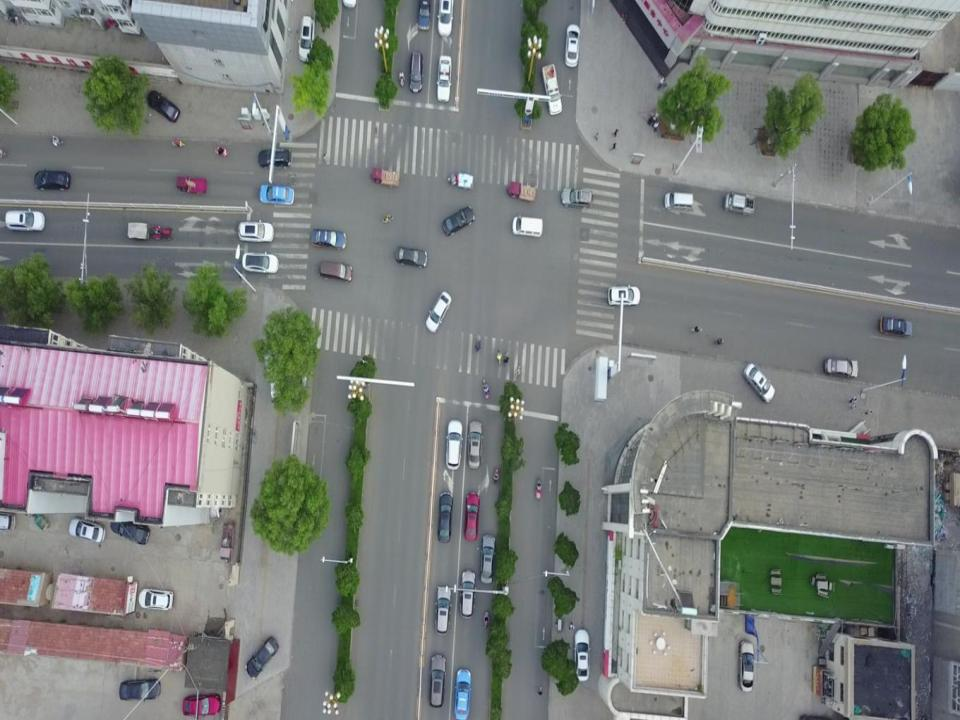car: (246, 636, 278, 680), (109, 513, 150, 546), (743, 362, 775, 402), (425, 291, 452, 332), (146, 90, 179, 122), (541, 64, 562, 113), (442, 205, 474, 236), (428, 653, 446, 707), (68, 517, 104, 544), (120, 677, 161, 700), (243, 250, 279, 275), (236, 218, 274, 241), (466, 420, 484, 467), (738, 641, 754, 693), (33, 169, 72, 190), (480, 532, 496, 582), (455, 666, 470, 719), (446, 418, 461, 470), (575, 629, 590, 681), (138, 587, 174, 608), (182, 696, 221, 715), (300, 17, 316, 63), (438, 491, 452, 543), (460, 570, 475, 618), (257, 148, 291, 169), (312, 229, 346, 250), (609, 284, 640, 307), (437, 55, 452, 102), (436, 587, 450, 637), (880, 315, 913, 336), (319, 261, 353, 281), (824, 358, 858, 378), (395, 246, 427, 267), (464, 493, 478, 541), (259, 184, 292, 204), (561, 185, 592, 206), (564, 26, 580, 66), (438, 0, 454, 37), (410, 50, 422, 92), (418, 0, 430, 30), (0, 513, 17, 530)
truck: (126, 219, 172, 240), (724, 191, 755, 216), (220, 521, 235, 564), (176, 175, 207, 194), (372, 167, 400, 188), (508, 182, 535, 202), (448, 172, 474, 190)
van: (5, 211, 44, 232), (512, 217, 543, 237), (665, 193, 693, 209)
